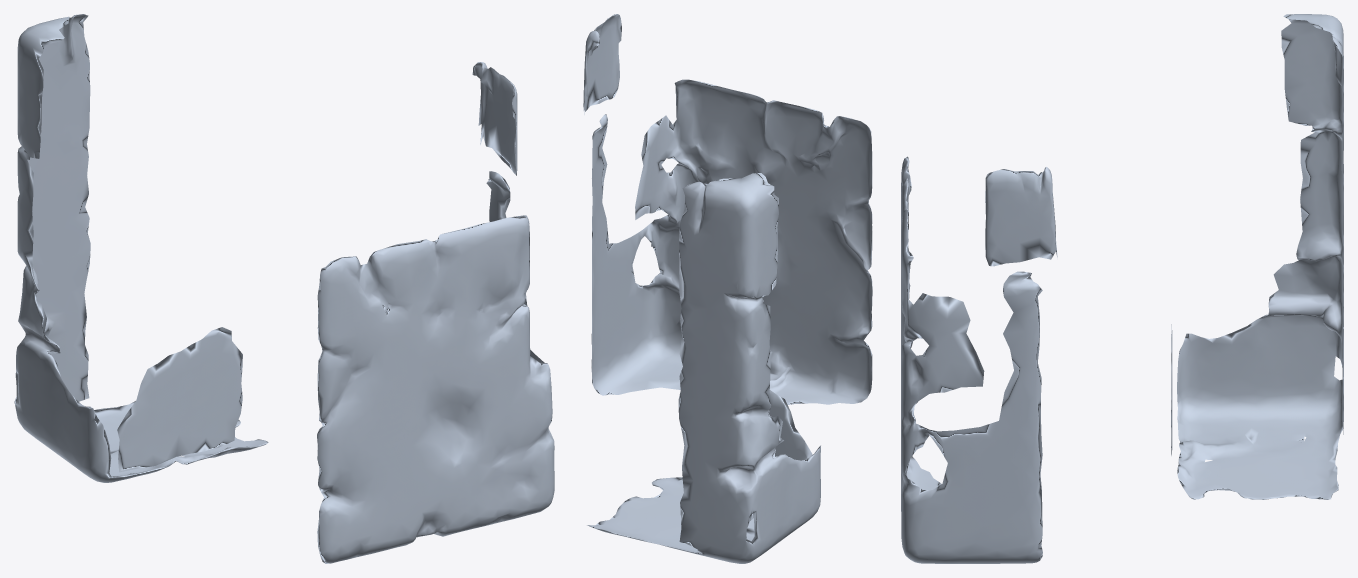
File: smalllectureroom_PosterBoard.glb
3 views of the same model, side by side, from view 1: azimuth 30°, elevation 25°; view 2: azimuth 150°, elevation 25°; view 3: azimuth 270°, elevation 25° (orthographic). The views are drawn at different scales.
Parts seen in each view (by area): view 1: world; view 2: world; view 3: world.
Part boxes in pixels (x1,y1,x2,y2): world: (14,14,554,563); world: (583,14,872,563); world: (901,14,1343,563).
Size of the model in its own units: 0.8387 by 1 by 0.987.
Materials: 1 (1 with a texture image).
